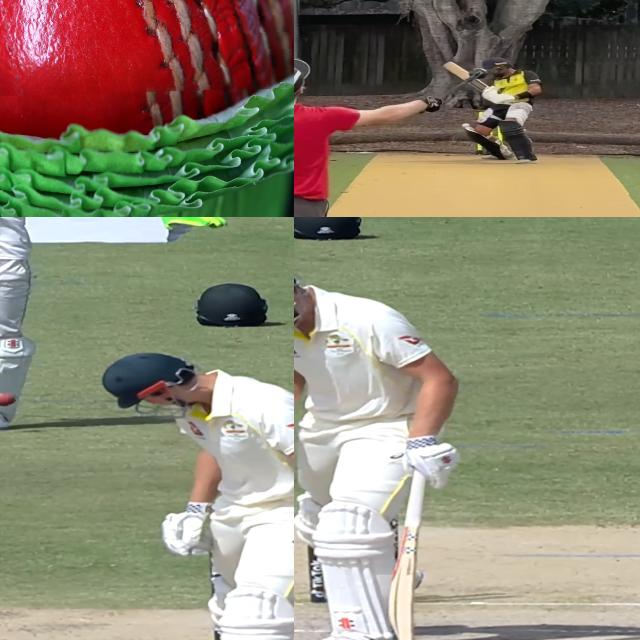Cricket ball: (0, 0, 294, 101), (0, 392, 15, 407), (461, 122, 471, 128)
